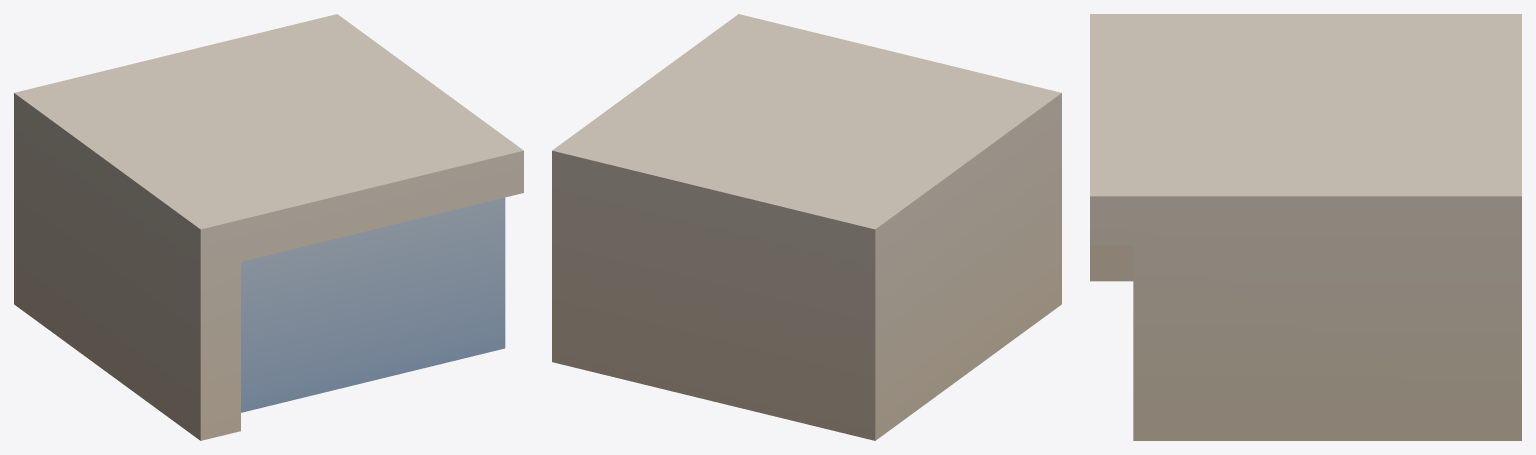
Rendered from building-window-large-left.glb.
The picture shows the model from 3 angles, left to right: view 1: azimuth 30°, elevation 25°; view 2: azimuth 150°, elevation 25°; view 3: azimuth 270°, elevation 25°; orthographic projection. The views are drawn at different scales.
Parts seen in each view (by area): view 1: building-window-large-left; view 2: building-window-large-left; view 3: building-window-large-left.
Boxes of the visible parts, bbox=[...] form: building-window-large-left: bbox=[14, 14, 523, 440]; building-window-large-left: bbox=[552, 14, 1061, 440]; building-window-large-left: bbox=[1090, 14, 1521, 440].
Bounding box in the file's own units: 1 × 0.625 × 1.
